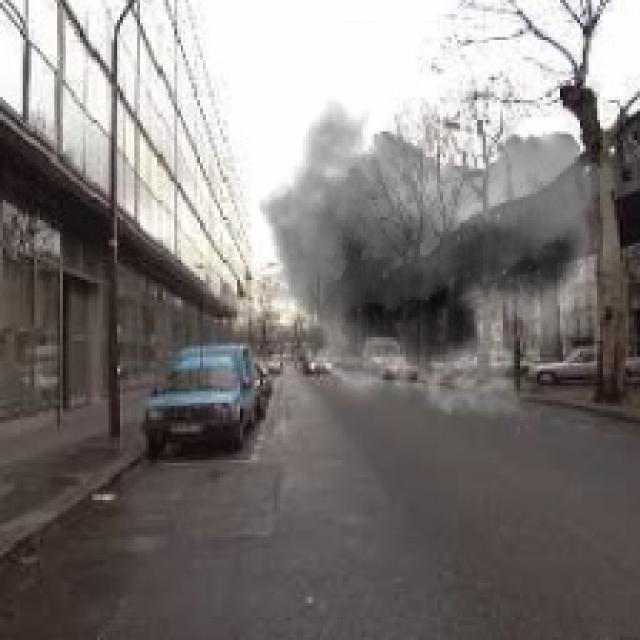smoke: (226, 20, 620, 437)
